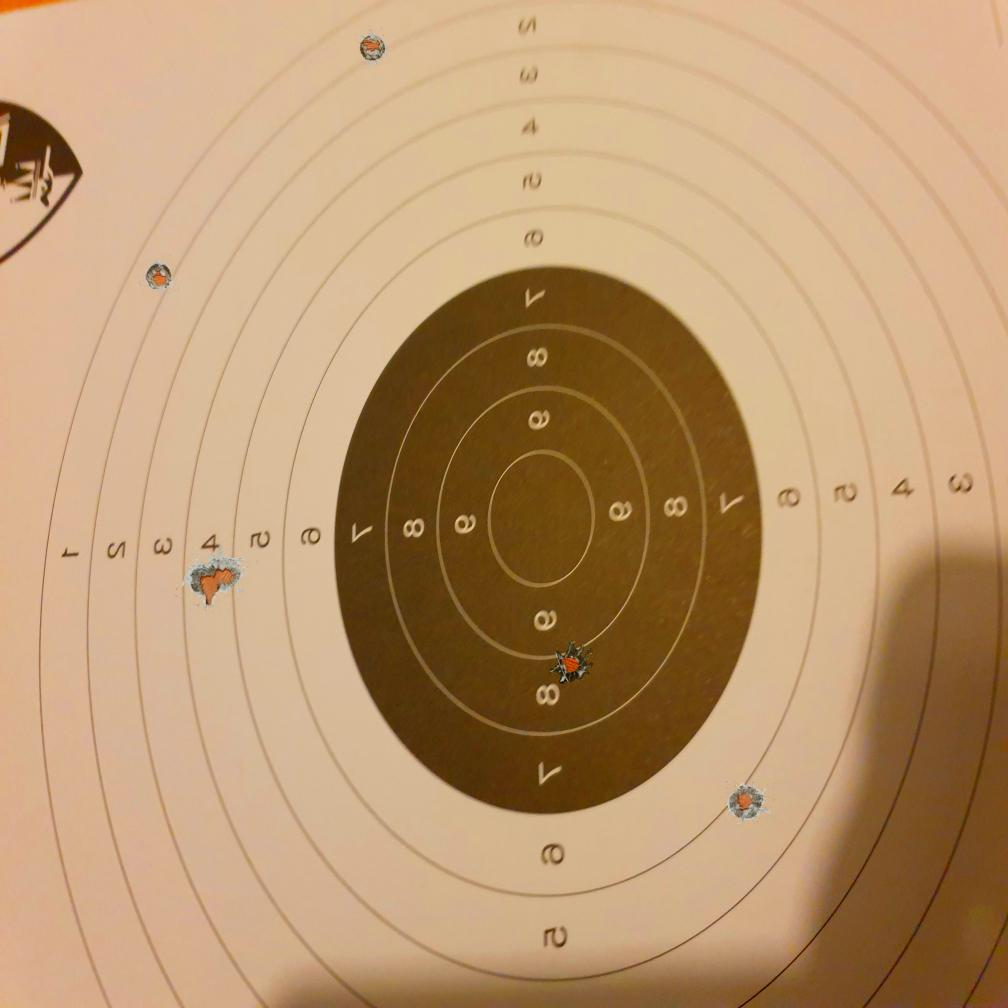2: (355, 27, 388, 68), (140, 257, 174, 295)
4: (182, 564, 219, 608)
5: (211, 553, 245, 596)
6: (724, 779, 769, 825)
9: (553, 638, 595, 690)
Target: (26, 1, 1007, 1008)
black_contour: (335, 263, 764, 816)
